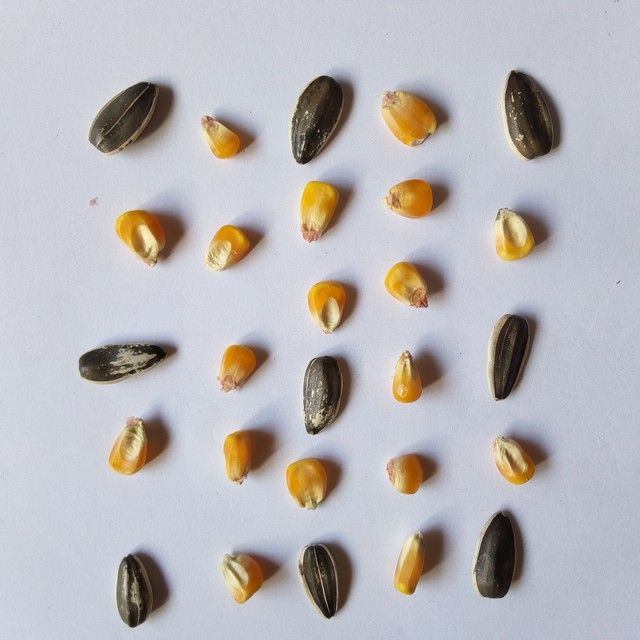girasol: (285, 68, 347, 170), (87, 75, 166, 155), (472, 503, 532, 608), (500, 63, 561, 160), (297, 350, 353, 437), (484, 308, 533, 407), (295, 539, 350, 619), (75, 339, 170, 383), (109, 550, 157, 631)
maiz: (375, 83, 448, 148), (110, 205, 170, 269), (280, 453, 342, 514), (484, 202, 543, 265), (379, 251, 438, 311), (102, 413, 155, 477), (293, 180, 349, 240), (304, 275, 358, 336), (486, 431, 542, 488), (379, 176, 443, 224), (390, 527, 434, 596), (214, 338, 264, 396), (216, 548, 264, 607), (382, 347, 429, 406), (202, 220, 253, 274), (196, 109, 248, 161), (215, 427, 258, 489), (381, 449, 428, 499)
